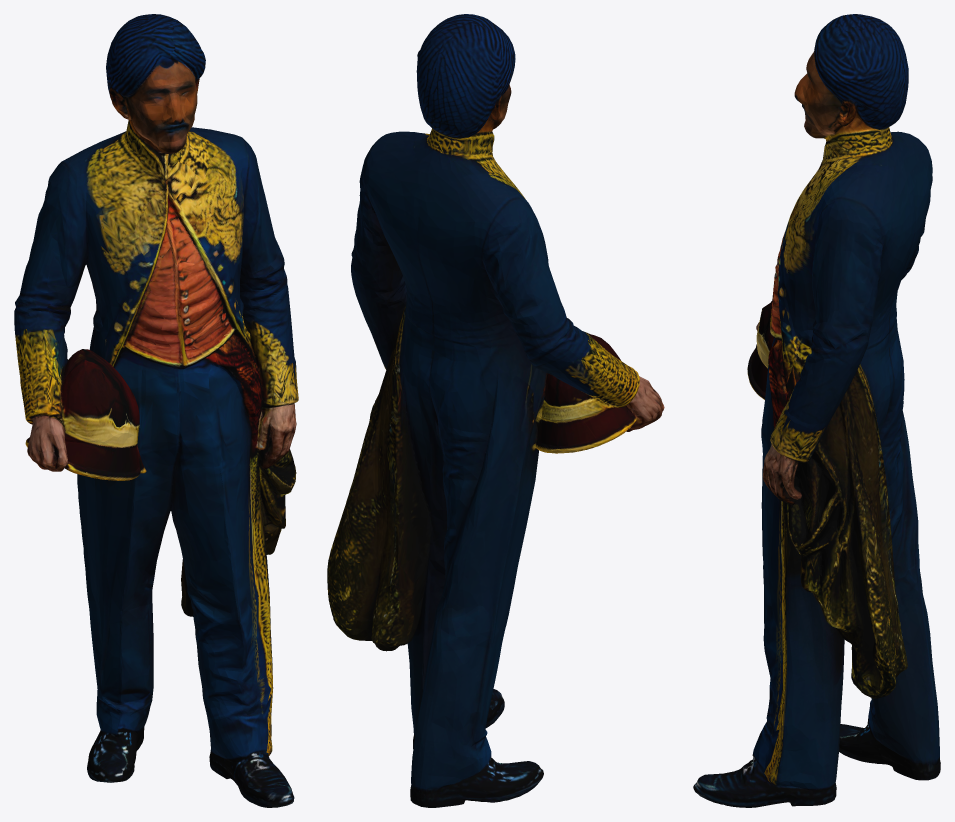
The picture shows the model from 3 angles, left to right: view 1: azimuth 30°, elevation 25°; view 2: azimuth 150°, elevation 25°; view 3: azimuth 270°, elevation 25°; orthographic projection.
Visible parts, largest first — view 1: tripo_node_518d0bf6-4223-4670-8835-b3f82ffe4941; view 2: tripo_node_518d0bf6-4223-4670-8835-b3f82ffe4941; view 3: tripo_node_518d0bf6-4223-4670-8835-b3f82ffe4941.
Part boxes in pixels (box(x1,y1,x2,y2)): tripo_node_518d0bf6-4223-4670-8835-b3f82ffe4941: box(14, 14, 298, 807); tripo_node_518d0bf6-4223-4670-8835-b3f82ffe4941: box(327, 14, 664, 807); tripo_node_518d0bf6-4223-4670-8835-b3f82ffe4941: box(693, 14, 940, 807).
Bounding box in the file's own units: 0.3934 × 0.9998 × 0.2979.
1 material, 1 textured.
